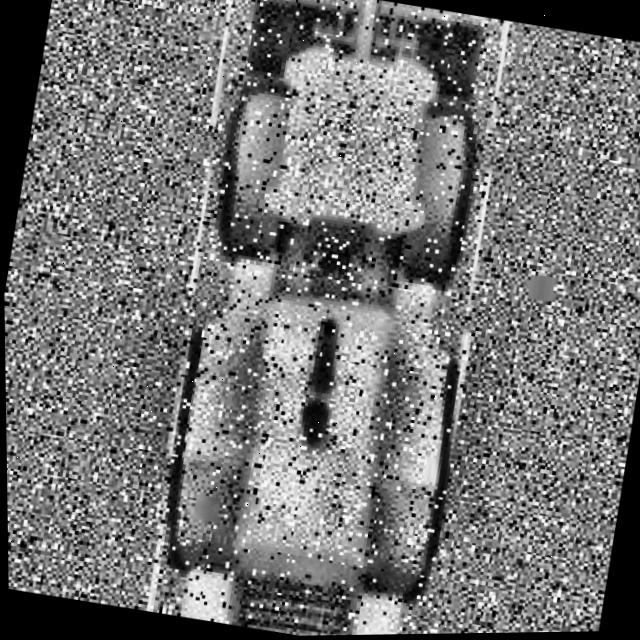buldozerpayloadergrader: (122, 0, 525, 639)
